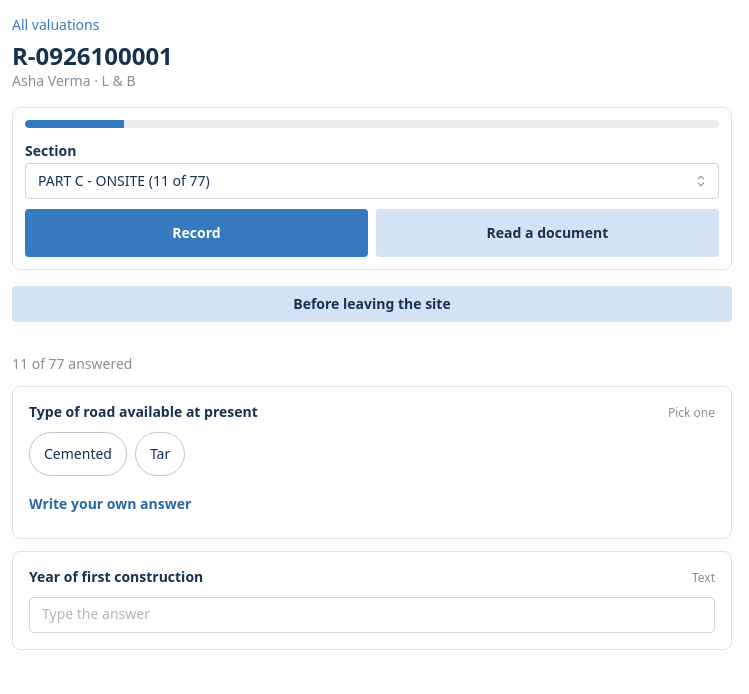
it: the phone form › keeps an answer on the phone when the signal drops
Step 1. Click the button "Tar" → (160,454), box [135,432,185,476]
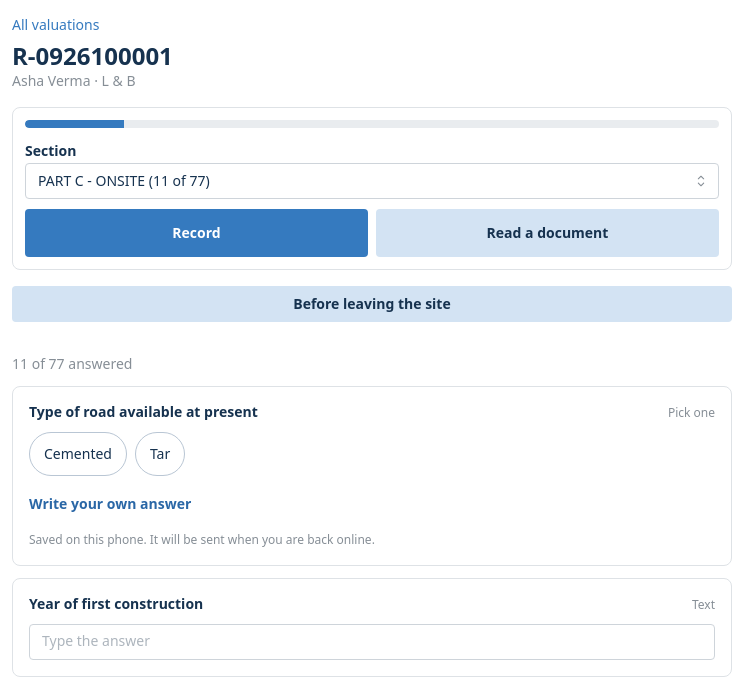
Now the text "Saved on this phone. It will be sent when you are back online." is shown, box [29,531,375,548]
